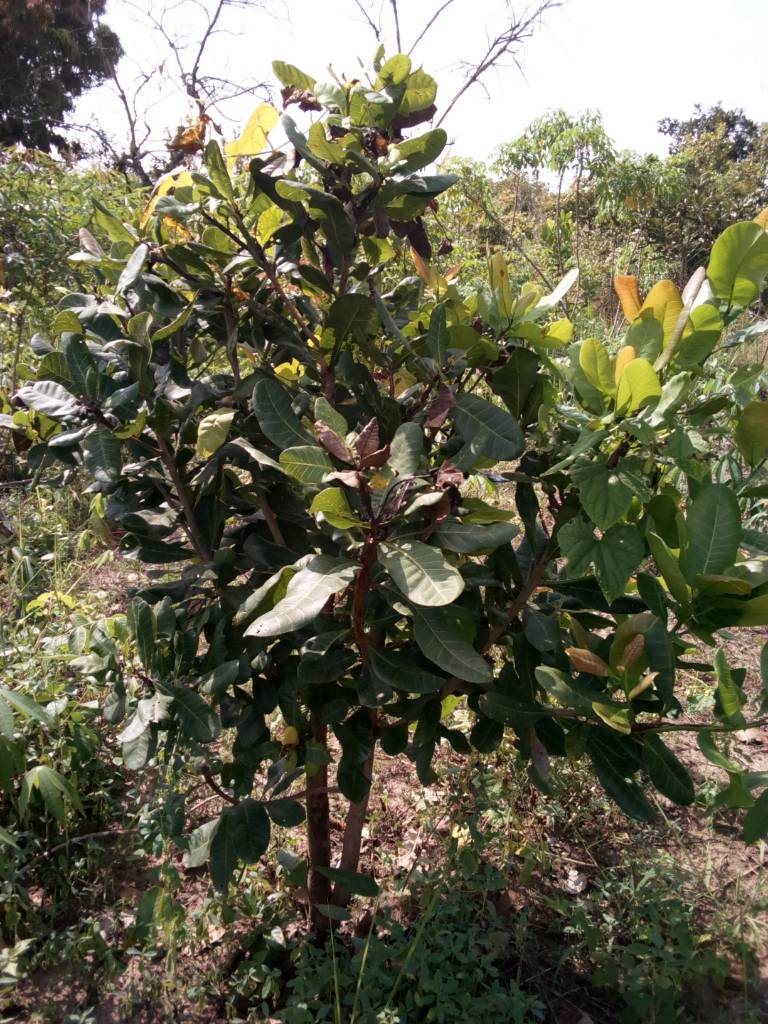Die-black: (299, 410, 405, 490), (425, 374, 457, 441)
